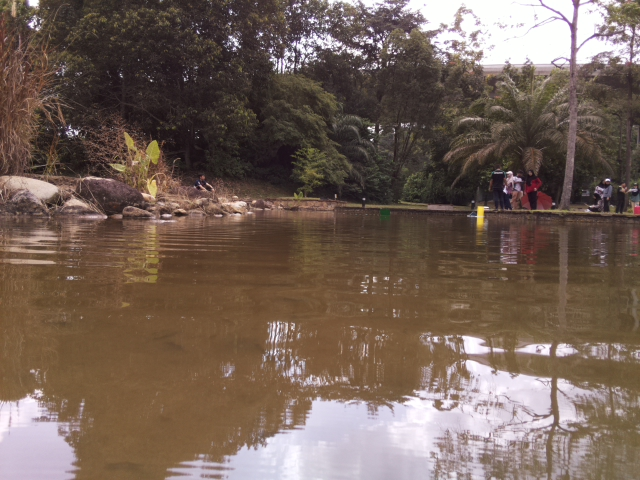obstacle: (378, 207, 392, 216)
